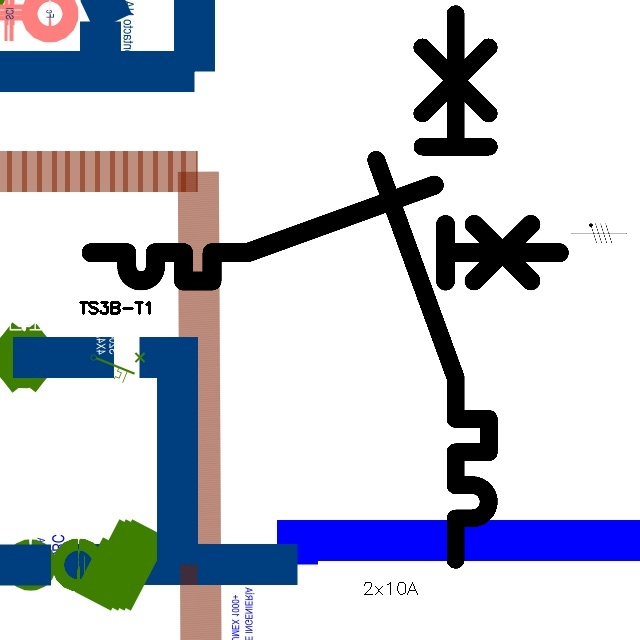interruptor_termomagnetico: (362, 0, 503, 574), (79, 173, 571, 293)
